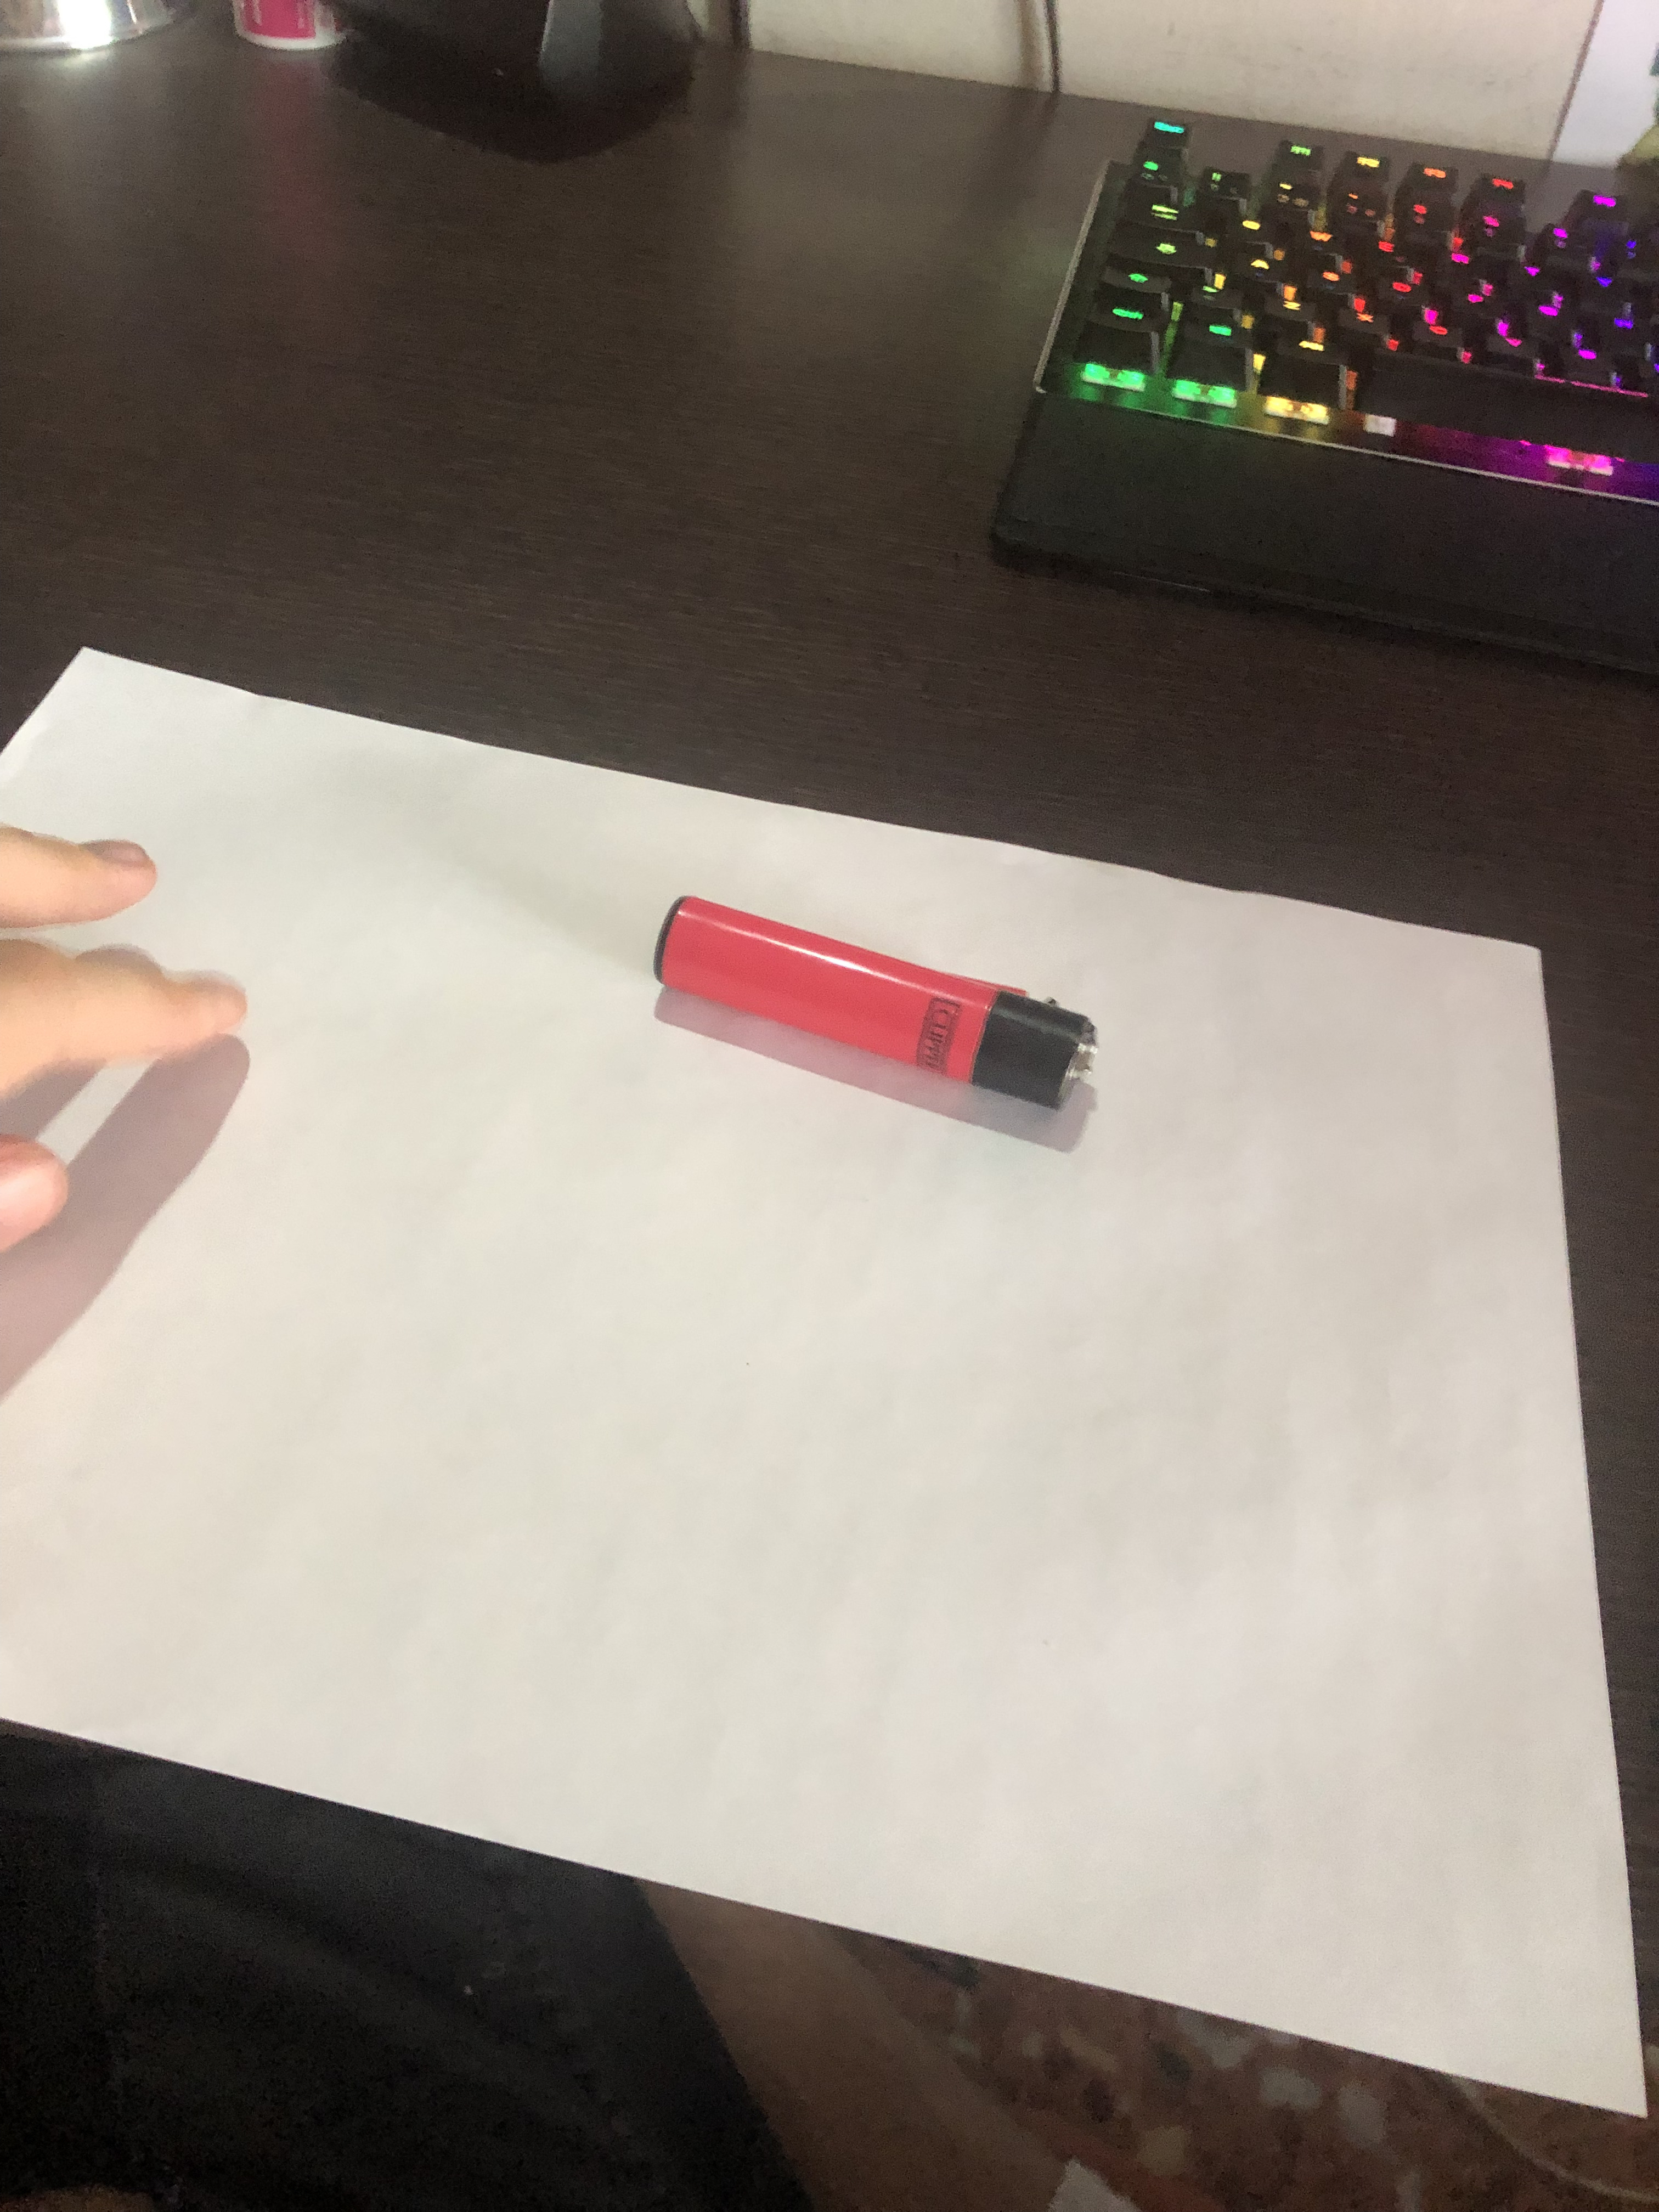Mechero: (634, 876, 1147, 1141)
